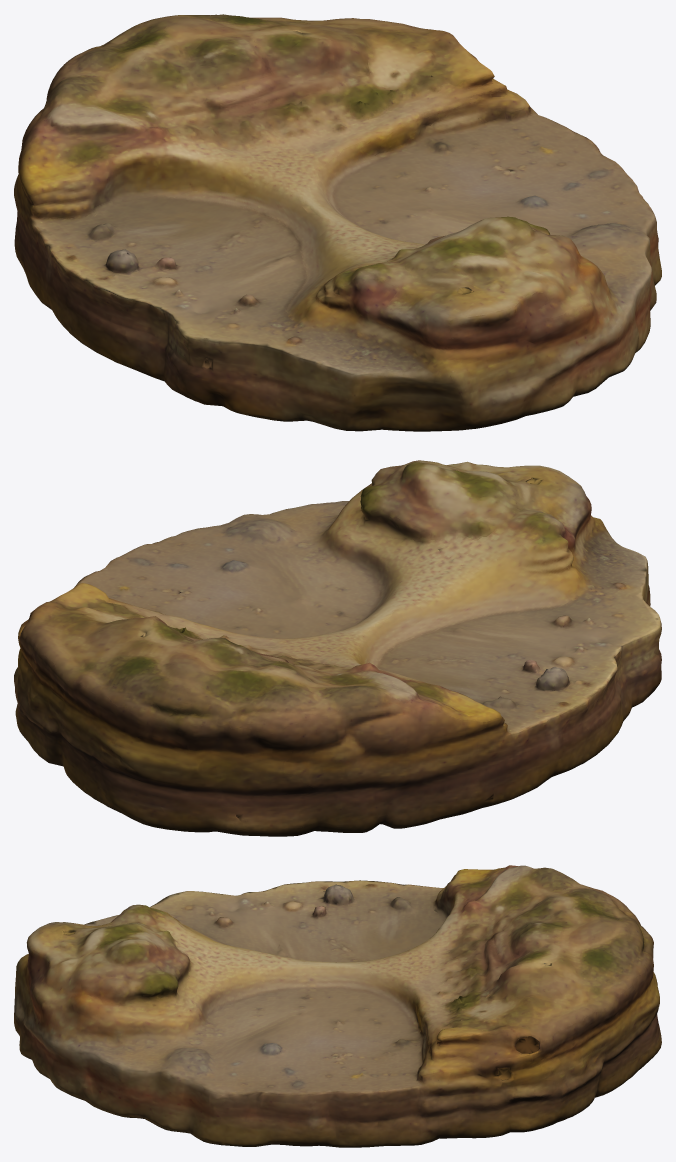
3 renders of one model, top to bottom at view 1: azimuth 30°, elevation 25°; view 2: azimuth 150°, elevation 25°; view 3: azimuth 270°, elevation 25°, orthographic. The views are drawn at different scales.
Visible parts, largest first — view 1: world; view 2: world; view 3: world.
Boxes of the visible parts, x1,y1,x2,y2 form: world: (14,14,661,431); world: (14,460,661,836); world: (14,865,661,1147).
Bounding box in the file's own units: 14.19 × 3.73 × 18.
Materials: 1 (1 with a texture image).
